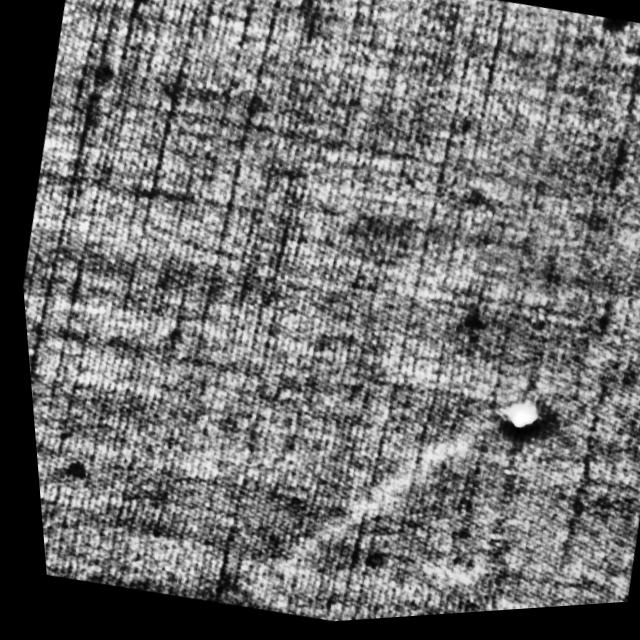Hole: (494, 395, 562, 445), (500, 397, 553, 436)
